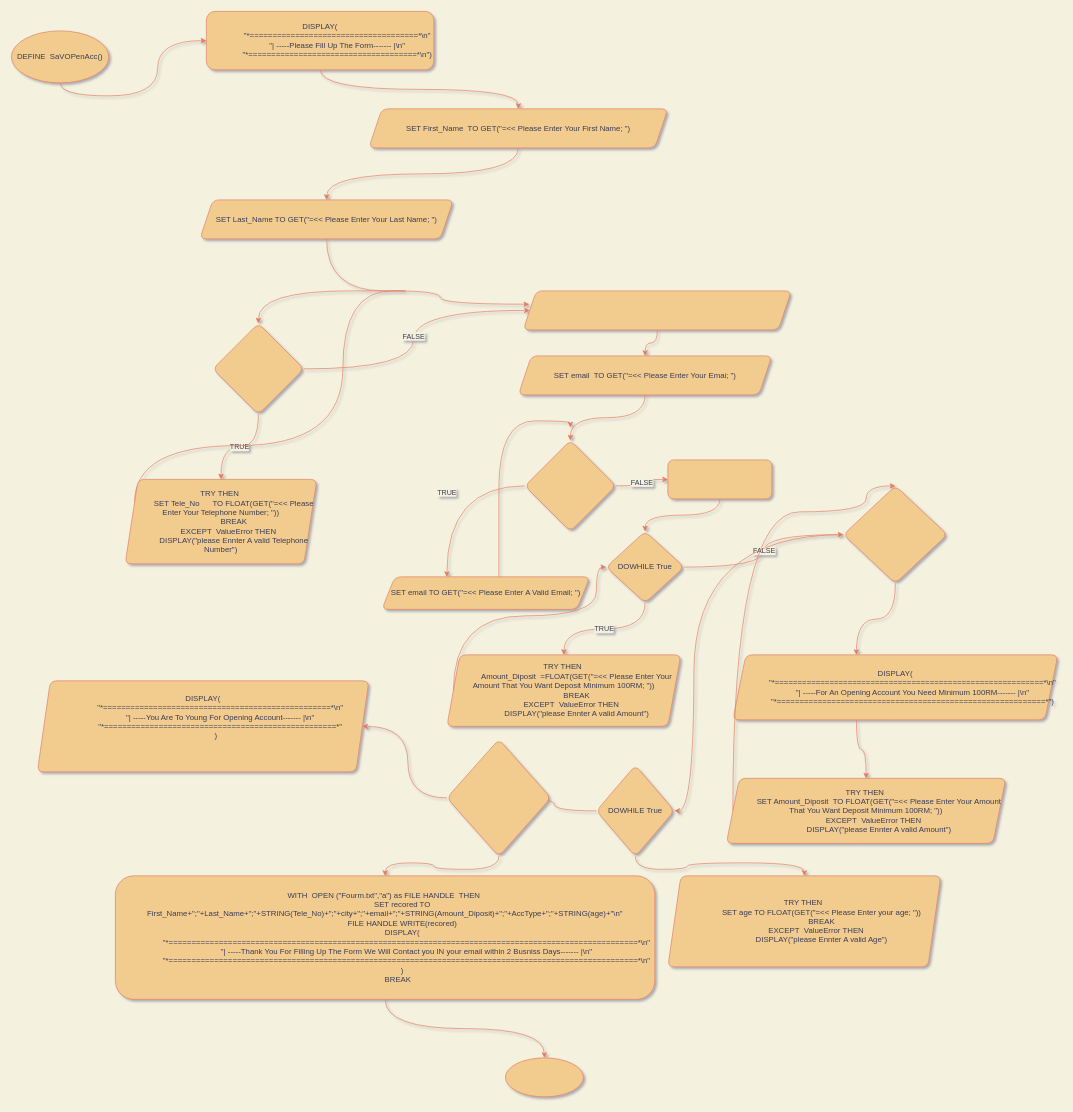
The diagram is 1073 pixels wide and 1112 high, and some of its shapes have lost their labels. Each missing label, with the centre of its shape:
DOWHILE "@" not IN email or ".com" not IN email THEN: point 570,485
DOWHILE age >= 18 THEN: point 498,797
DOWHILE True THEN: point 258,368
ENDEFINE: point 544,1077
SET AccType TO "SAV": point 719,479
SET city TO GET("=<< Please Enter Your City; "): point 657,310
while Amount_Diposit < 100: point 895,534
